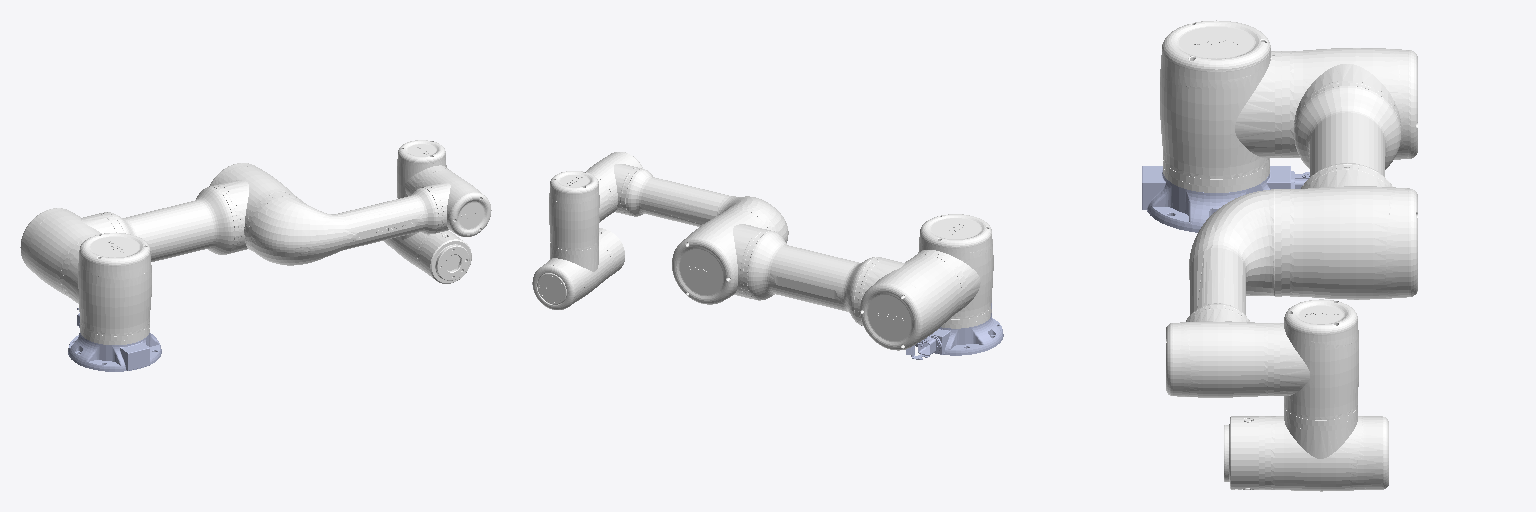
URDF robot description (jaka_urdf):
<?xml version="1.0" encoding="utf-8"?>
<!-- This URDF was automatically created by SolidWorks to URDF Exporter! Originally created by [author] ([email redacted]) 
     Commit Version: 1.6.0-1-g15f4949  Build Version: 1.6.7594.29634
     For more information, please see http://wiki.ros.org/sw_urdf_exporter -->
<robot
  name="jaka_urdf">
  <link
    name="base_link">
    <inertial>
      <origin
        xyz="3.81292253893226E-05 -0.00051062394050446 0.0164811788415841"
        rpy="0 0 0" />
      <mass
        value="0.316071676314721" />
      <inertia
        ixx="0.000732142215941178"
        ixy="-1.38859037191336E-06"
        ixz="-3.31198443651547E-08"
        iyy="0.000506946567815254"
        iyz="3.52404641177203E-06"
        izz="0.00115490648843546" />
    </inertial>
    <visual>
      <origin
        xyz="0 0 0"
        rpy="0 0 0" />
      <geometry>
        <mesh
          filename="package://jaka_urdf/meshes/base_link.STL" />
      </geometry>
      <material
        name="">
        <color
          rgba="0.792156862745098 0.819607843137255 0.933333333333333 1" />
      </material>
    </visual>
    <collision>
      <origin
        xyz="0 0 0"
        rpy="0 0 0" />
      <geometry>
        <mesh
          filename="package://jaka_urdf/meshes/base_link.STL" />
      </geometry>
    </collision>
  </link>
  <link
    name="link_1">
    <inertial>
      <origin
        xyz="1.46024788222122E-05 0.0643099225513186 -0.00213204208383403"
        rpy="0 0 0" />
      <mass
        value="4.84660317505282" />
      <inertia
        ixx="0.0159491674103219"
        ixy="-4.31674585680837E-06"
        ixz="-4.30081210076815E-05"
        iyy="0.0136252259950524"
        iyz="1.83667943011854E-05"
        izz="0.0160336417483832" />
    </inertial>
    <visual>
      <origin
        xyz="0 0 0"
        rpy="0 0 0" />
      <geometry>
        <mesh
          filename="package://jaka_urdf/meshes/link_1.STL" />
      </geometry>
      <material
        name="">
        <color
          rgba="1 1 1 1" />
      </material>
    </visual>
    <collision>
      <origin
        xyz="0 0 0"
        rpy="0 0 0" />
      <geometry>
        <mesh
          filename="package://jaka_urdf/meshes/link_1.STL" />
      </geometry>
    </collision>
  </link>
  <joint
    name="joint_1"
    type="revolute">
    <origin
      xyz="0 0 0.038"
      rpy="1.5708 0 0" />
    <parent
      link="base_link" />
    <child
      link="link_1" />
    <axis
      xyz="0 1 0" />
    <limit
      lower="-4.7124"
      upper="4.7124"
      effort="0"
      velocity="3.1416" />
  </joint>
  <link
    name="link_2">
    <inertial>
      <origin
        xyz="0.180002450934386 3.51476784728189E-06 -0.069790796976854"
        rpy="0 0 0" />
      <mass
        value="14.0272250296612" />
      <inertia
        ixx="0.0421353382265057"
        ixy="8.87808467073066E-05"
        ixz="-7.17199705885394E-06"
        iyy="0.377992810343007"
        iyz="-1.69611046124789E-05"
        izz="0.372411887483437" />
    </inertial>
    <visual>
      <origin
        xyz="0 0 0"
        rpy="0 0 0" />
      <geometry>
        <mesh
          filename="package://jaka_urdf/meshes/link_2.STL" />
      </geometry>
      <material
        name="">
        <color
          rgba="1 1 1 1" />
      </material>
    </visual>
    <collision>
      <origin
        xyz="0 0 0"
        rpy="0 0 0" />
      <geometry>
        <mesh
          filename="package://jaka_urdf/meshes/link_2.STL" />
      </geometry>
    </collision>
  </link>
  <joint
    name="joint_2"
    type="revolute">
    <origin
      xyz="0 0.08215 -0.062"
      rpy="0 0 0" />
    <parent
      link="link_1" />
    <child
      link="link_2" />
    <axis
      xyz="0 0 -1" />
    <limit
      lower="-0.87266"
      upper="4.0143"
      effort="0"
      velocity="3.1416" />
  </joint>
  <link
    name="link_3">
    <inertial>
      <origin
        xyz="0.17106 1.0043E-05 0.044372"
        rpy="0 0 0" />
      <mass
        value="5.6704" />
      <inertia
        ixx="0.0089702"
        ixy="-2.2958E-06"
        ixz="-0.003203"
        iyy="0.10222"
        iyz="-6.1404E-07"
        izz="0.10152" />
    </inertial>
    <visual>
      <origin
        xyz="0 0 0"
        rpy="0 0 0" />
      <geometry>
        <mesh
          filename="package://jaka_urdf/meshes/link_3.STL" />
      </geometry>
      <material
        name="">
        <color
          rgba="1 1 1 1" />
      </material>
    </visual>
    <collision>
      <origin
        xyz="0 0 0"
        rpy="0 0 0" />
      <geometry>
        <mesh
          filename="package://jaka_urdf/meshes/link_3.STL" />
      </geometry>
    </collision>
  </link>
  <joint
    name="joint_3"
    type="revolute">
    <origin
      xyz="0.36 0 0"
      rpy="0 0 0" />
    <parent
      link="link_2" />
    <child
      link="link_3" />
    <axis
      xyz="0 0 -1" />
    <limit
      lower="-2.7053"
      upper="2.7053"
      effort="0"
      velocity="3.14159265358979" />
  </joint>
  <link
    name="link_4">
    <inertial>
      <origin
        xyz="-1.14008035080326E-05 -0.0184949387103933 -0.0442651627732715"
        rpy="0 0 0" />
      <mass
        value="2.1679612281102" />
      <inertia
        ixx="0.00385371992185878"
        ixy="3.80400386160572E-07"
        ixz="-7.54423805760233E-06"
        iyy="0.00270215785806936"
        iyz="-2.69234875655872E-05"
        izz="0.00384113883316461" />
    </inertial>
    <visual>
      <origin
        xyz="0 0 0"
        rpy="0 0 0" />
      <geometry>
        <mesh
          filename="package://jaka_urdf/meshes/link_4.STL" />
      </geometry>
      <material
        name="">
        <color
          rgba="1 1 1 1" />
      </material>
    </visual>
    <collision>
      <origin
        xyz="0 0 0"
        rpy="0 0 0" />
      <geometry>
        <mesh
          filename="package://jaka_urdf/meshes/link_4.STL" />
      </geometry>
    </collision>
  </link>
  <joint
    name="joint_4"
    type="revolute">
    <origin
      xyz="0.3035 0 -0.0075125"
      rpy="0 0 0" />
    <parent
      link="link_3" />
    <child
      link="link_4" />
    <axis
      xyz="0 0 1" />
    <limit
      lower="-1.4835"
      upper="4.6251"
      effort="0"
      velocity="3.1416" />
  </joint>
  <link
    name="link_5">
    <inertial>
      <origin
        xyz="-1.7225E-05 -0.044459 0.008475"
        rpy="0 0 0" />
      <mass
        value="2.4454" />
      <inertia
        ixx="0.0059338"
        ixy="-7.1062E-06"
        ixz="9.7151E-07"
        iyy="0.0059353"
        iyz="-2.7536E-06"
        izz="0.0030294" />
    </inertial>
    <visual>
      <origin
        xyz="0 0 0"
        rpy="0 0 0" />
      <geometry>
        <mesh
          filename="package://jaka_urdf/meshes/link_5.STL" />
      </geometry>
      <material
        name="">
        <color
          rgba="1 1 1 1" />
      </material>
    </visual>
    <collision>
      <origin
        xyz="0 0 0"
        rpy="0 0 0" />
      <geometry>
        <mesh
          filename="package://jaka_urdf/meshes/link_5.STL" />
      </geometry>
    </collision>
  </link>
  <joint
    name="joint_5"
    type="revolute">
    <origin
      xyz="0 -0.068 -0.0455"
      rpy="0 0 0" />
    <parent
      link="link_4" />
    <child
      link="link_5" />
    <axis
      xyz="0 1 0" />
    <limit
      lower="-4.7124"
      upper="4.7124"
      effort="0"
      velocity="3.1416" />
  </joint>
  <link
    name="link_6">
    <inertial>
      <origin
        xyz="-0.000432854341018585 -0.000678866480812029 0.022839311099528"
        rpy="0 0 0" />
      <mass
        value="0.72213499112033" />
      <inertia
        ixx="0.000454216532831086"
        ixy="-7.80994576769969E-07"
        ixz="-1.97674051594801E-06"
        iyy="0.000408707031350344"
        iyz="-5.0083631005522E-06"
        izz="0.000705818962613607" />
    </inertial>
    <visual>
      <origin
        xyz="0 0 0"
        rpy="0 0 0" />
      <geometry>
        <mesh
          filename="package://jaka_urdf/meshes/link_6.STL" />
      </geometry>
      <material
        name="">
        <color
          rgba="1 1 1 1" />
      </material>
    </visual>
    <collision>
      <origin
        xyz="0 0 0"
        rpy="0 0 0" />
      <geometry>
        <mesh
          filename="package://jaka_urdf/meshes/link_6.STL" />
      </geometry>
    </collision>
  </link>
  <joint
    name="joint_6"
    type="revolute">
    <origin
      xyz="0 -0.0455 0.068"
      rpy="0 0 0" />
    <parent
      link="link_5" />
    <child
      link="link_6" />
    <axis
      xyz="0 0 -1" />
    <limit
      lower="-4.7124"
      upper="4.7124"
      effort="0"
      velocity="3.1416" />
  </joint>
</robot>

--- Render facts (derived) ---
The picture shows the robot from 3 angles, left to right: view 1: azimuth 30°, elevation 25°; view 2: azimuth 150°, elevation 25°; view 3: azimuth 270°, elevation 25°; orthographic projection.
Model jaka_urdf with 7 links and 6 joints (6 revolute), rooted at base_link, posed all joints at 0.
Visible links, largest first — view 1: link_2, link_3, link_1, base_link, link_6, link_4, link_5; view 2: link_2, link_3, link_1, link_4, link_5, base_link; view 3: link_2, link_1, link_3, link_4, link_5, base_link, link_6.
Link boxes in pixels (<box>): link_2: <box>20,163,297,300</box>; link_3: <box>251,167,491,265</box>; link_1: <box>66,233,151,344</box>; base_link: <box>68,308,161,371</box>; link_6: <box>421,233,471,283</box>; link_4: <box>397,140,447,198</box>; link_5: <box>384,230,454,272</box>; link_2: <box>672,205,966,350</box>; link_3: <box>586,152,788,242</box>; link_1: <box>918,214,993,328</box>; link_4: <box>549,171,608,257</box>; link_5: <box>532,237,615,309</box>; base_link: <box>906,303,1003,359</box>; link_2: <box>1275,48,1417,299</box>; link_1: <box>1160,20,1274,192</box>; link_3: <box>1166,189,1279,397</box>; link_4: <box>1280,299,1358,430</box>; link_5: <box>1259,416,1388,491</box>; base_link: <box>1142,166,1309,232</box>; link_6: <box>1224,416,1258,489</box>.
Bounding box of the posed robot: 0.7847 × 0.3036 × 0.2332 m (x, y, z).
7 mesh visuals loaded from 7 distinct referenced files (7 binary STL).